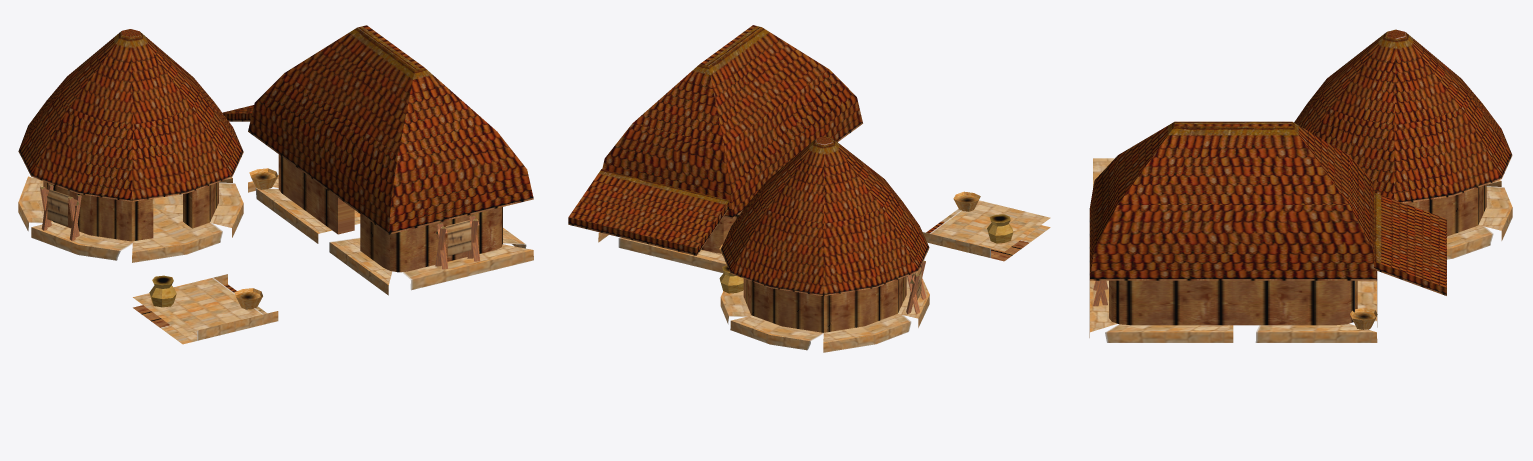
File: palafitos.dae
The picture shows the model from 3 angles, left to right: view 1: azimuth 30°, elevation 25°; view 2: azimuth 150°, elevation 25°; view 3: azimuth 270°, elevation 25°; orthographic projection. The views are drawn at different scales.
Parts seen in each view (by area): view 1: palafitos; view 2: palafitos; view 3: palafitos.
Boxes of the visible parts, x1,y1,x2,y2 form: palafitos: [18, 25, 533, 344]; palafitos: [568, 25, 1050, 352]; palafitos: [1089, 29, 1512, 342].
Size of the model in its own units: 18.21 by 18.39 by 14.13.
